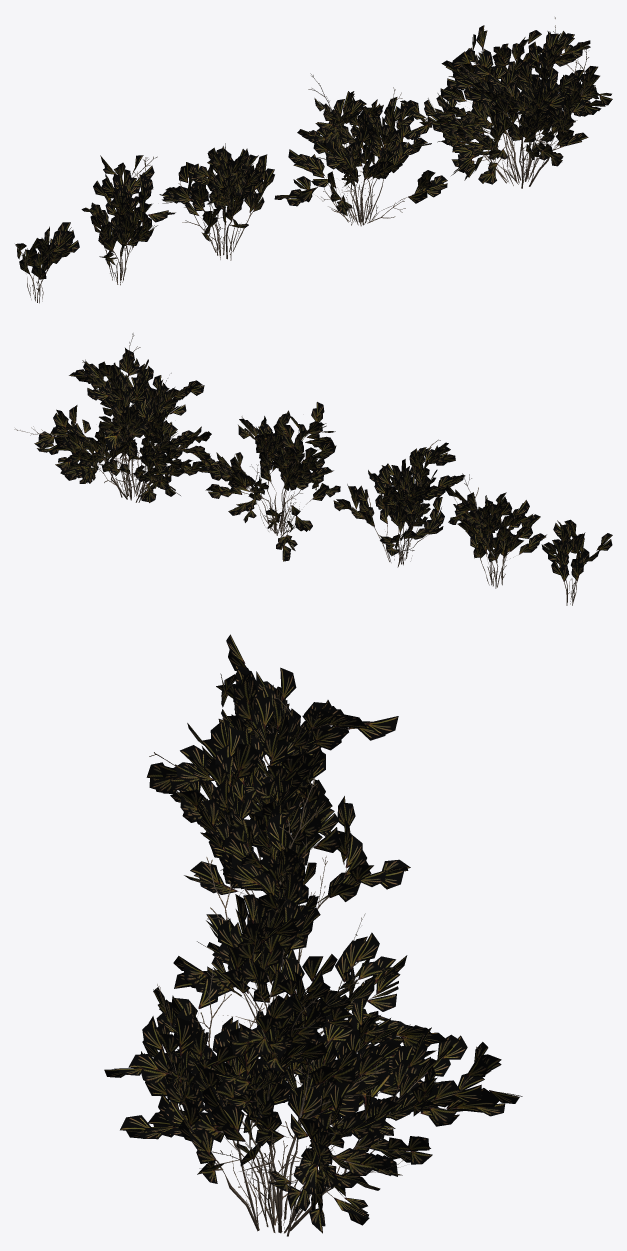
File: wild_rooibos_bush.glb
3 renders of one model, top to bottom at view 1: azimuth 30°, elevation 25°; view 2: azimuth 150°, elevation 25°; view 3: azimuth 270°, elevation 25°, orthographic. The views are drawn at different scales.
Parts seen in each view (by area): view 1: model; view 2: model; view 3: model.
Boxes of the visible parts, left/top/right/bottom form: model: left=15, top=17, right=612, bottom=303; model: left=14, top=333, right=612, bottom=605; model: left=104, top=634, right=522, bottom=1236.
Bounding box in the file's own units: 2.28 × 0.5413 × 0.7468.
Materials: 3 (3 with a texture image).
